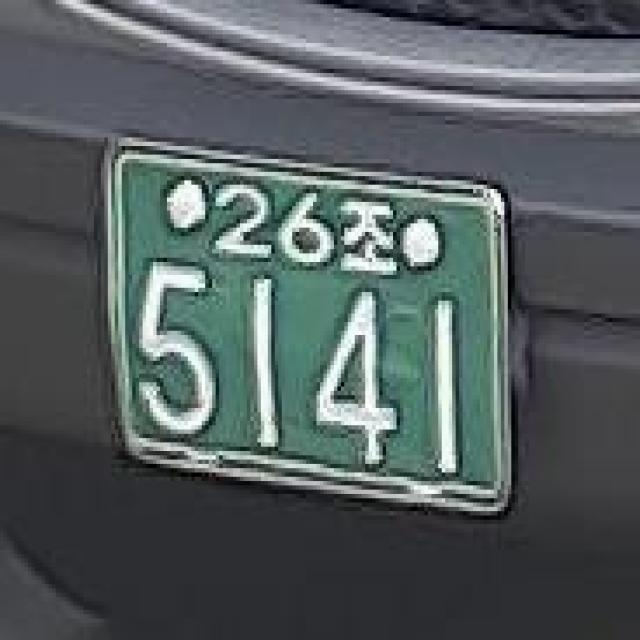illegal_plate: (79, 122, 532, 536)
